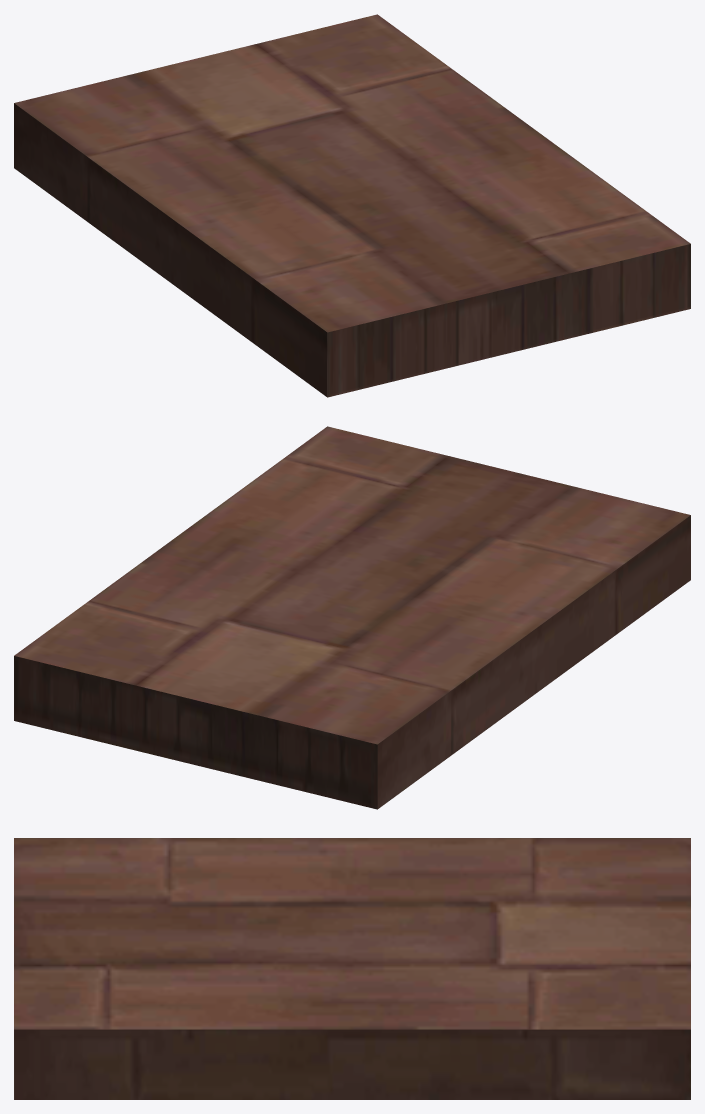
Rendered from woodBlock (7).fbx.
3 views of the same model, one above another, from view 1: azimuth 30°, elevation 25°; view 2: azimuth 150°, elevation 25°; view 3: azimuth 270°, elevation 25° (orthographic). The views are drawn at different scales.
Visible parts, largest first — view 1: woodBlock (7); view 2: woodBlock (7); view 3: woodBlock (7).
Part boxes in pixels (box(x1,y1,x2,y2)): woodBlock (7): box(14, 14, 690, 397); woodBlock (7): box(14, 426, 690, 809); woodBlock (7): box(14, 838, 690, 1099).
Size of the model in its own units: 37.67 by 6.44 by 56.26.
